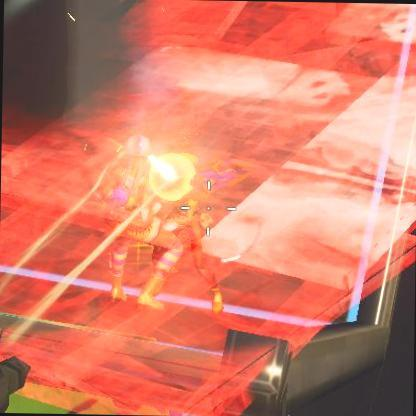person: (110, 135, 164, 299), (164, 156, 224, 300)
